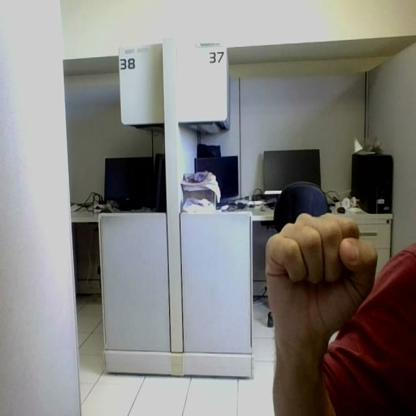S: (266, 215, 375, 322)
